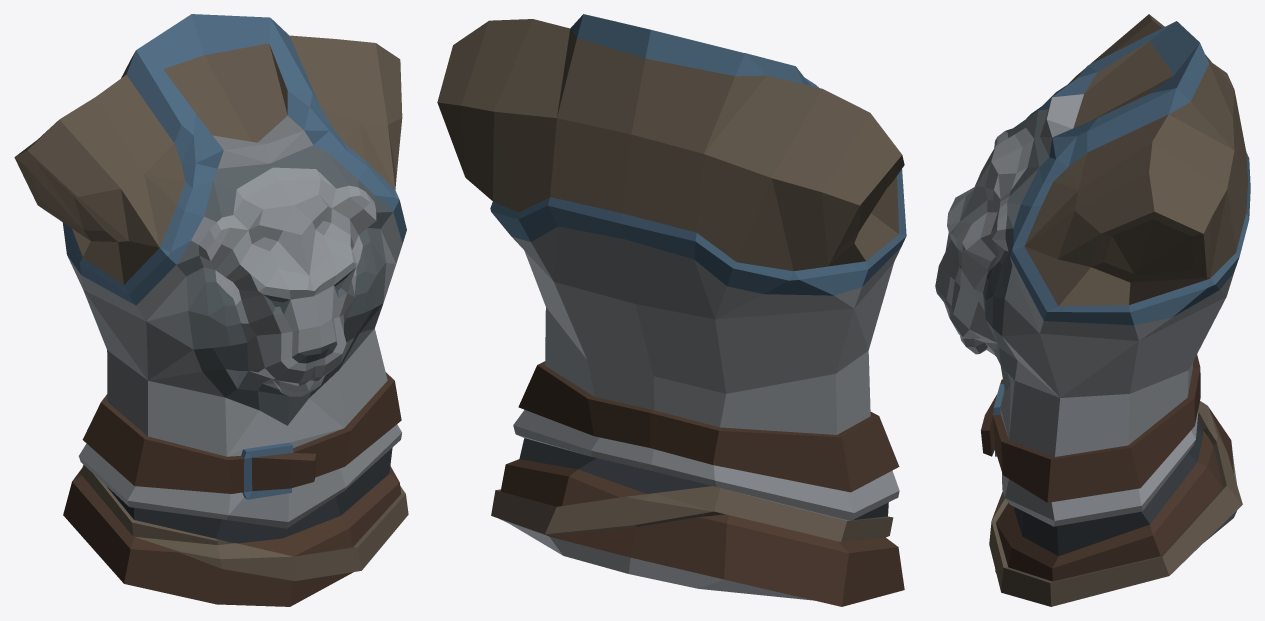
The model's file is Chr_Torso_Female_23_Static.fbx.
The picture shows the model from 3 angles, left to right: view 1: azimuth 30°, elevation 25°; view 2: azimuth 150°, elevation 25°; view 3: azimuth 270°, elevation 25°; orthographic projection. The views are drawn at different scales.
Parts seen in each view (by area): view 1: Chr_Torso_Female_23_Static; view 2: Chr_Torso_Female_23_Static; view 3: Chr_Torso_Female_23_Static.
Part boxes in pixels (x1,y1,x2,y2): Chr_Torso_Female_23_Static: (14,14,408,606); Chr_Torso_Female_23_Static: (437,14,906,606); Chr_Torso_Female_23_Static: (935,14,1250,606).
Bounding box in the file's own units: 0.5172 × 0.6879 × 0.371.
